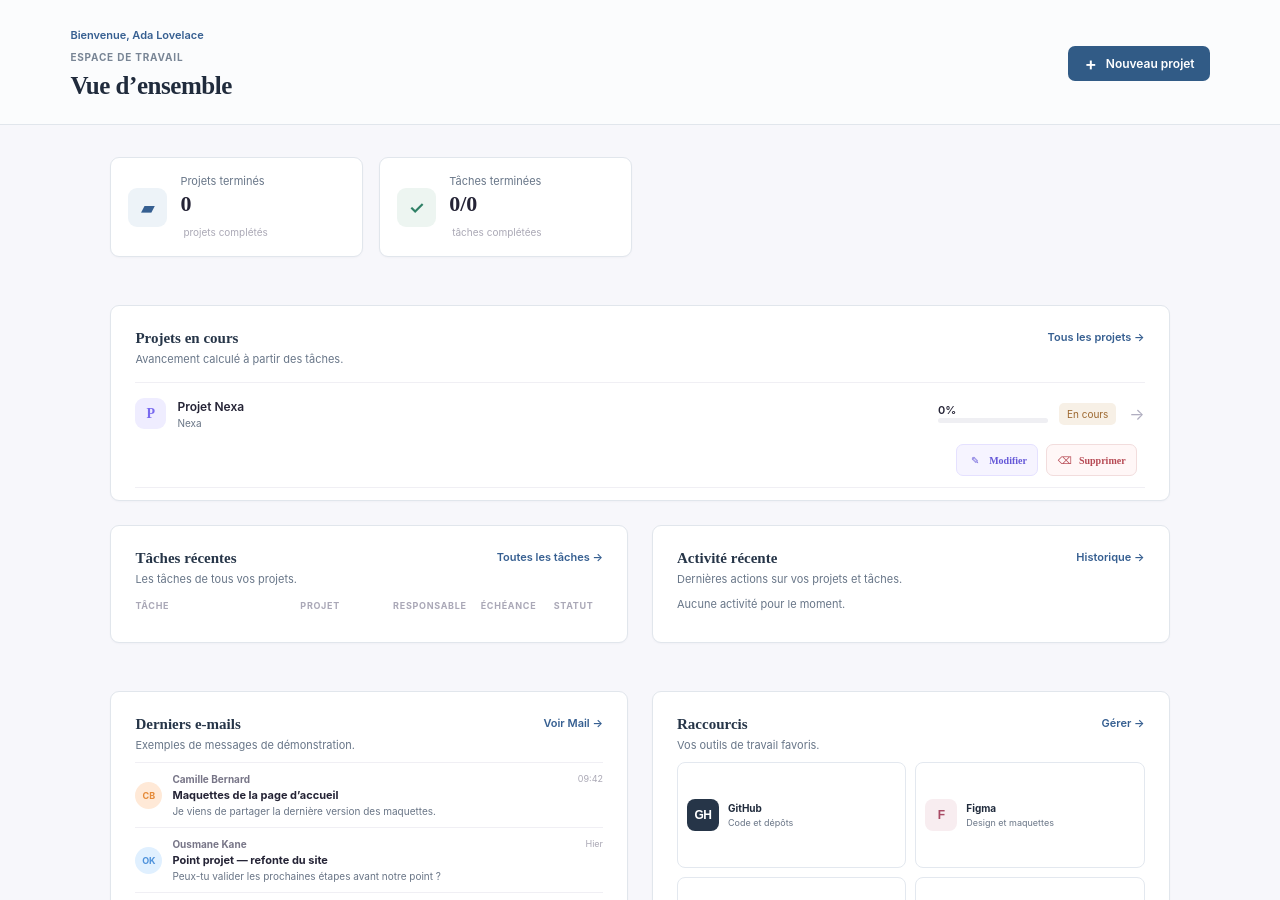
DashboardPage › keeps the modal open and reports an API failure
The width and height of the screenshot is (1280, 900).
Click the button "+ Nouveau projet" at (1139, 64), box [1068,46,1210,81]
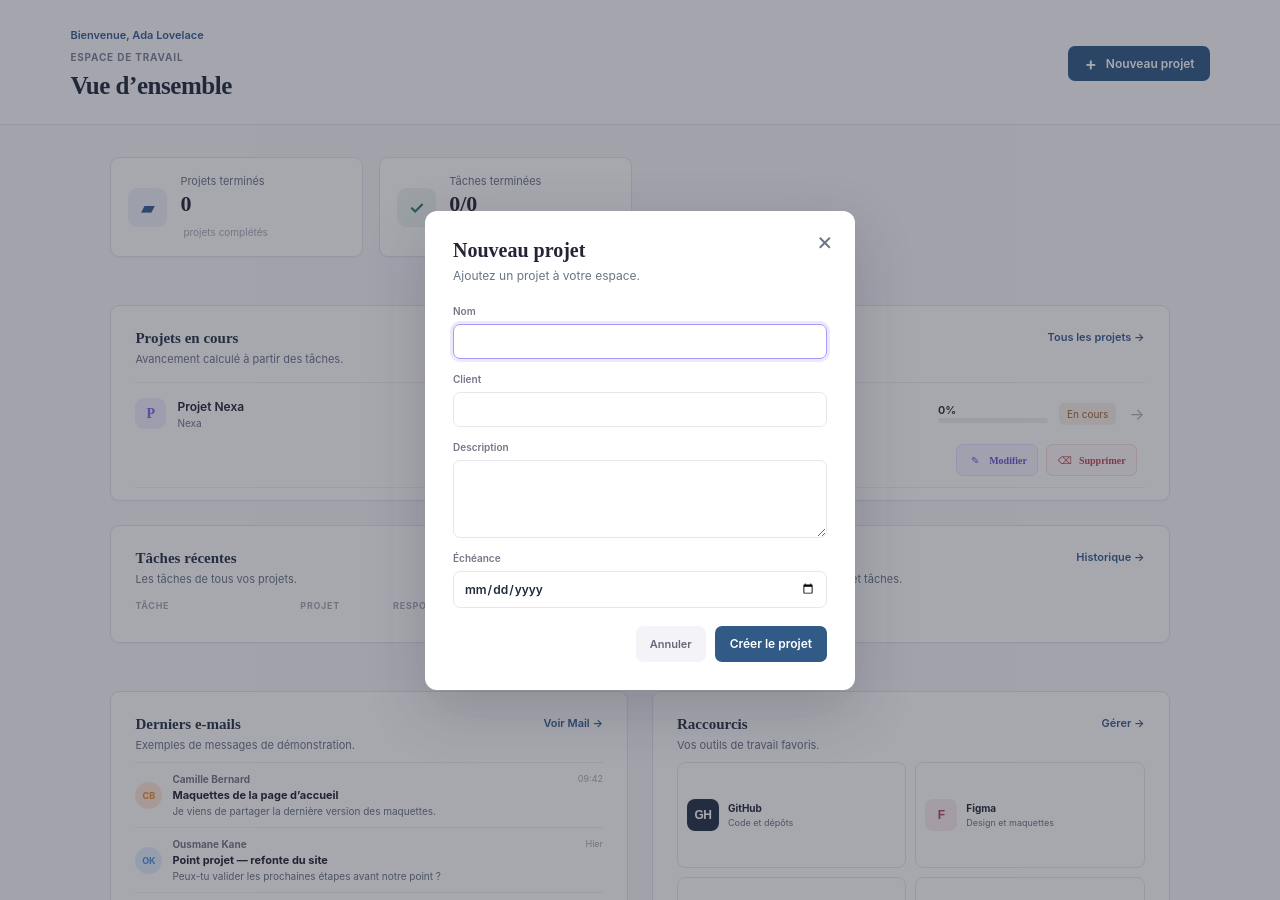
Type "Projet indisponible" into the field labelled "Nom" at (640, 341), box [453,324,827,358]
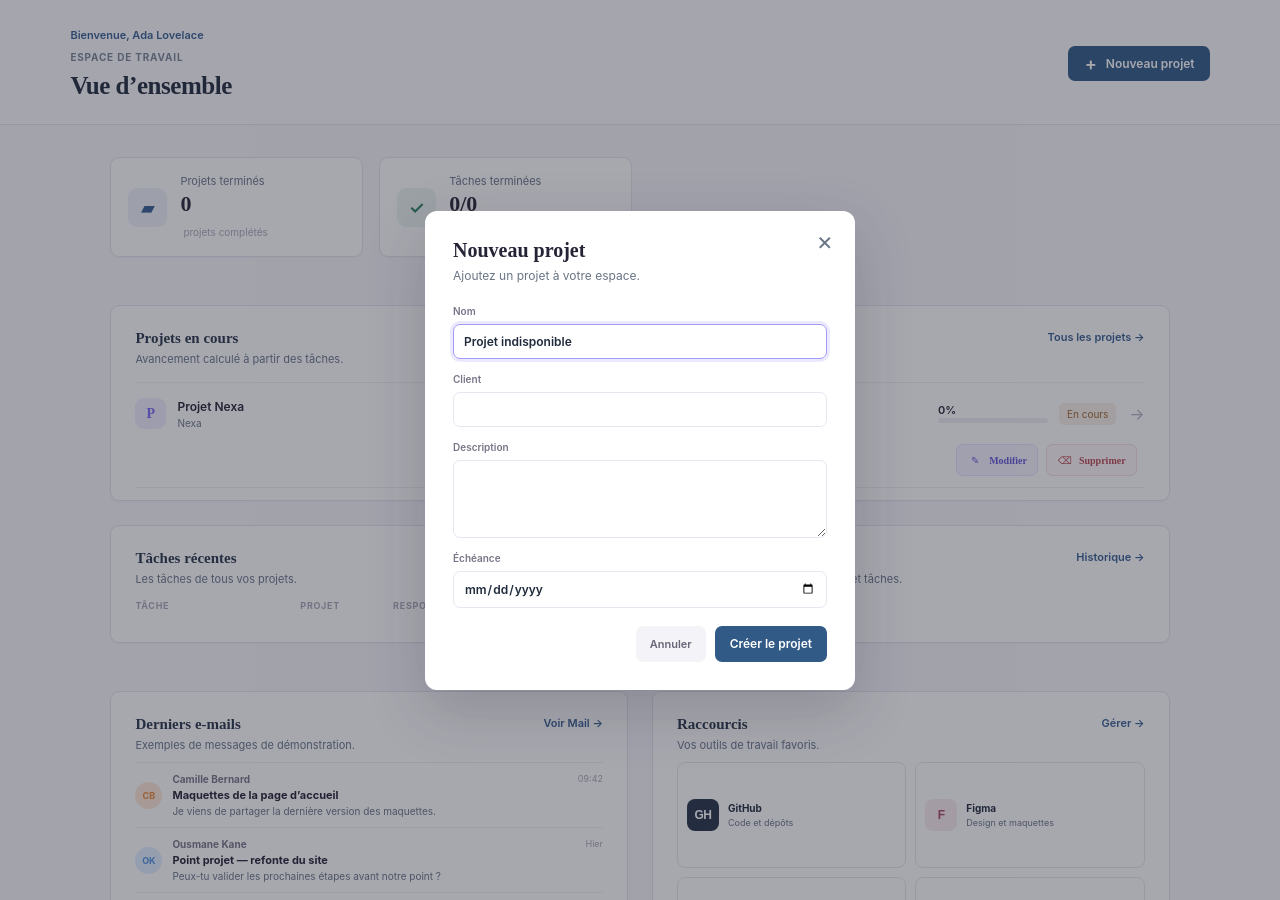
Click the button "Créer le projet" at (771, 644), box [715,626,827,662]
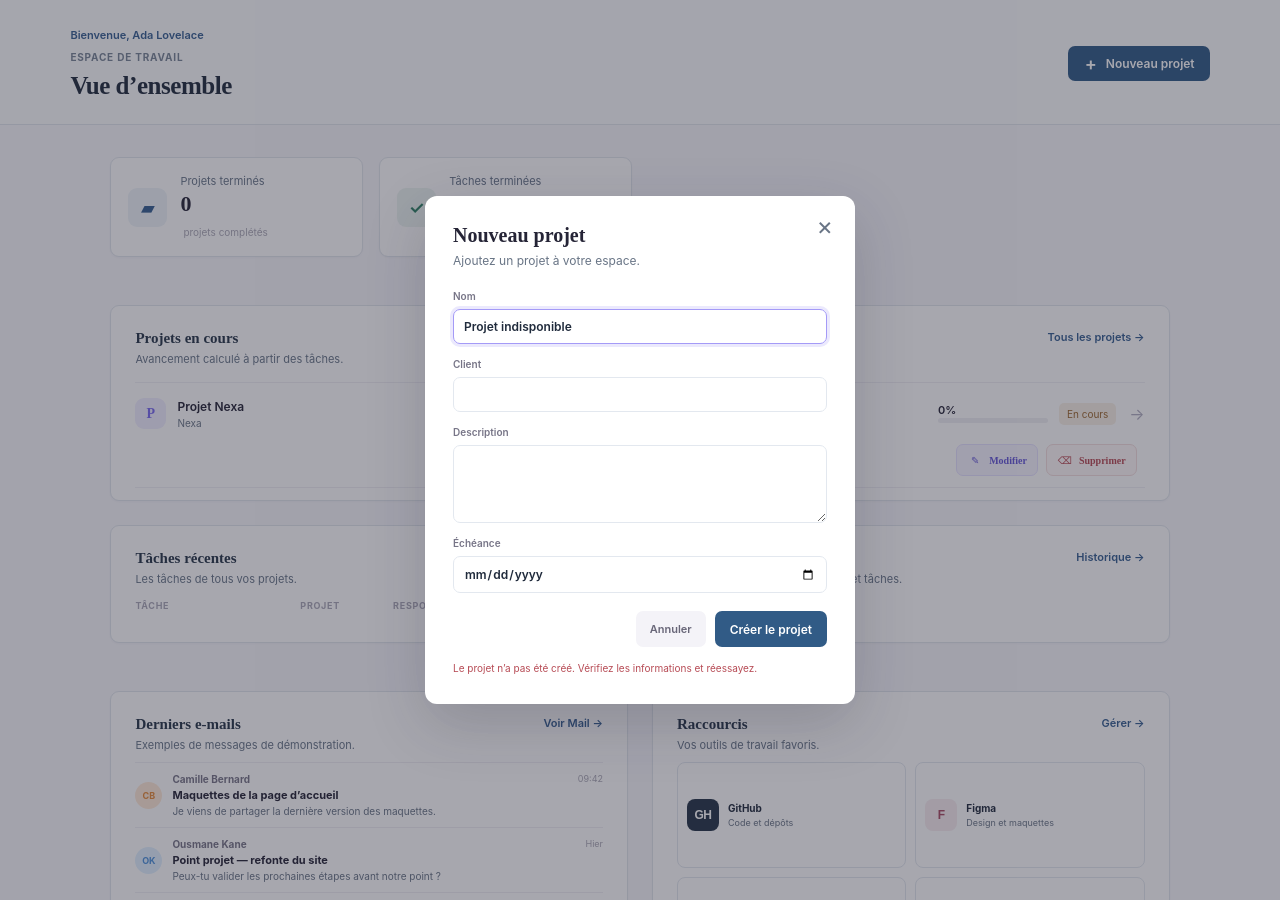
Expected: the dialog is shown, [425,196,855,704]
Expected: the message shows "Le projet n’a pas été créé", [453,662,757,674]
